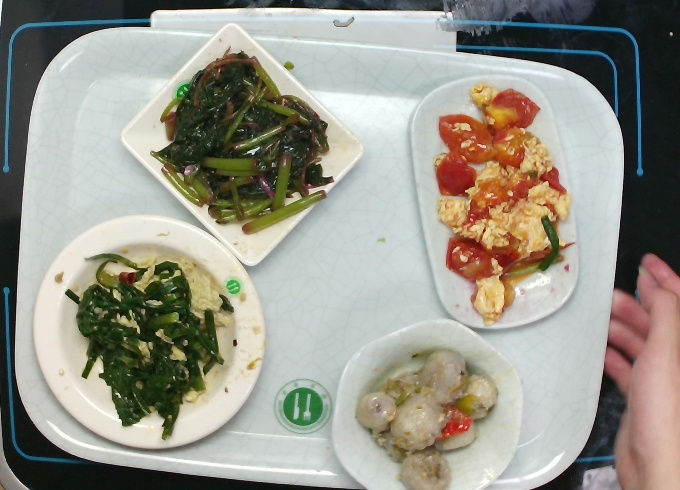WCQzf-Bai_Se_Si_Fang_Die: (115, 19, 367, 271)
WCQzf-Hua_Duo_Wan: (327, 313, 528, 490)
WCQzf-Kuan_Bian_Yuan_Die: (28, 210, 270, 454)
WCQzf-Tuo_Yuan_Pan: (406, 68, 587, 334)
